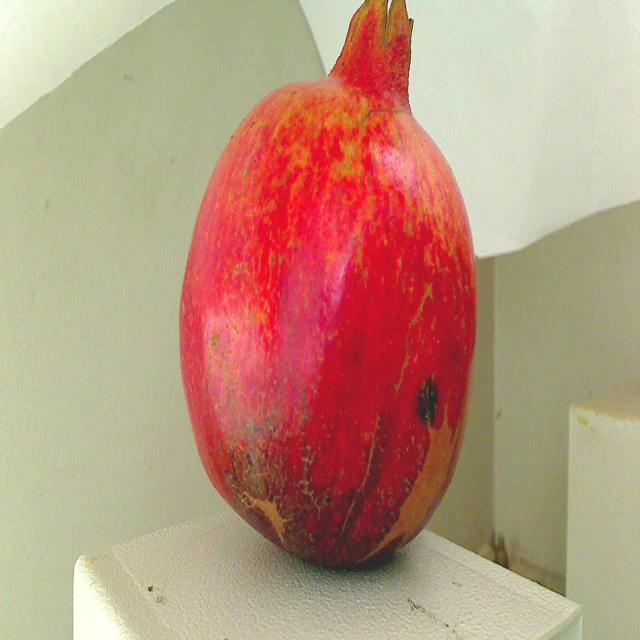pomegranate: (162, 0, 492, 578)
